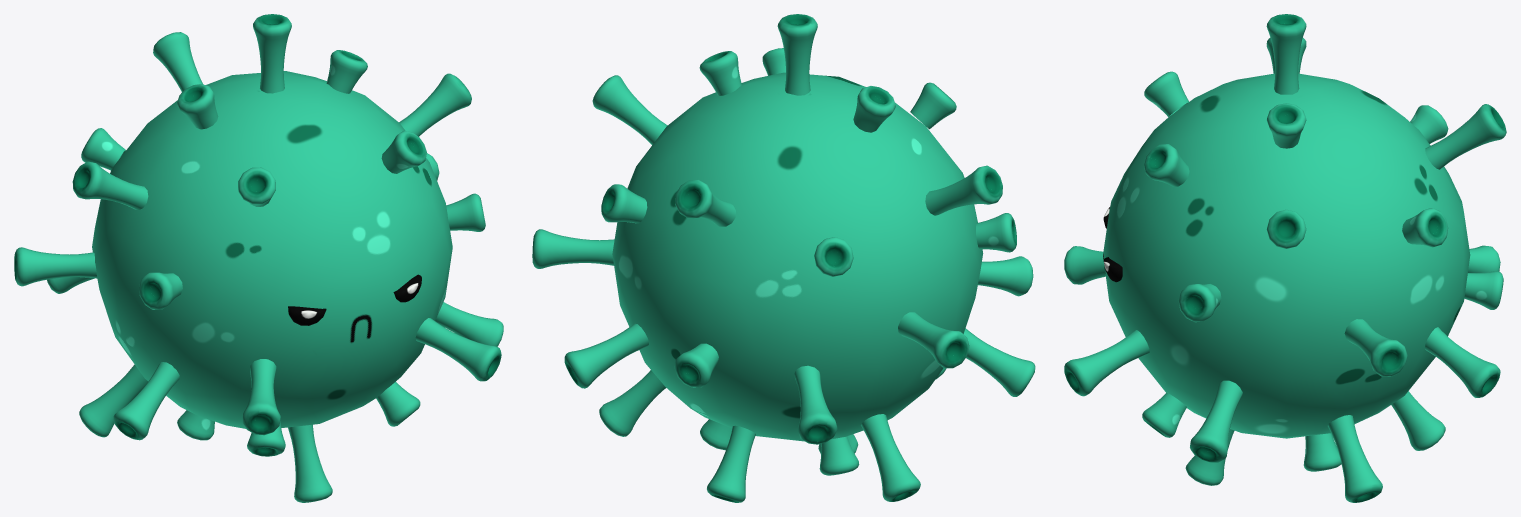
File: BacteriaFBX.fbx
The picture shows the model from 3 angles, left to right: view 1: azimuth 30°, elevation 25°; view 2: azimuth 150°, elevation 25°; view 3: azimuth 270°, elevation 25°; orthographic projection. The views are drawn at different scales.
Parts seen in each view (by area): view 1: Bacteria; view 2: Bacteria; view 3: Bacteria.
Boxes of the visible parts, x1,y1,x2,y2 form: Bacteria: (14,14,503,502); Bacteria: (532,14,1035,502); Bacteria: (1064,14,1506,502).
Size of the model in its own units: 15.02 by 15.5 by 13.44.
